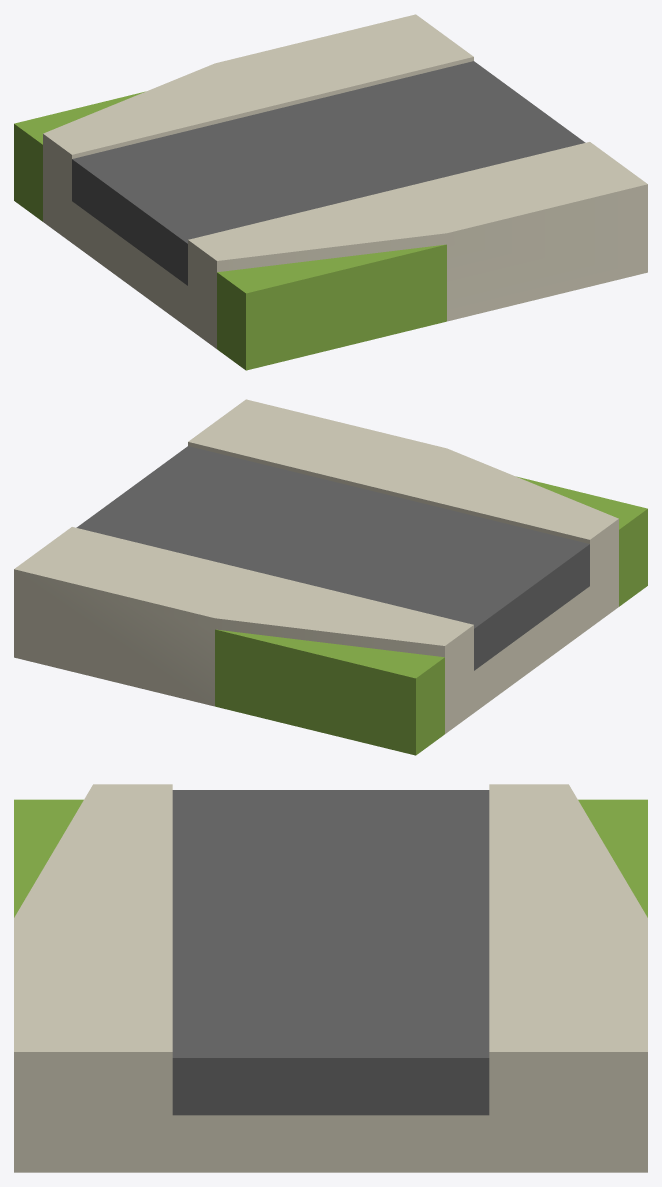
The model's file is grass_to_sidewalk.obj.
3 renders of one model, top to bottom at view 1: azimuth 30°, elevation 25°; view 2: azimuth 150°, elevation 25°; view 3: azimuth 270°, elevation 25°, orthographic. The views are drawn at different scales.
Visible parts, largest first — view 1: Mesh1_Group1_Model.030; view 2: Mesh1_Group1_Model.030; view 3: Mesh1_Group1_Model.030.
Boxes of the visible parts, left/top/right/bottom form: Mesh1_Group1_Model.030: left=14, top=14, right=647, bottom=370; Mesh1_Group1_Model.030: left=14, top=399, right=647, bottom=755; Mesh1_Group1_Model.030: left=14, top=784, right=647, bottom=1172.
Bounding box in the file's own units: 3 × 0.63 × 3.
